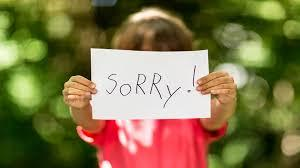text: (104, 63, 197, 109)
